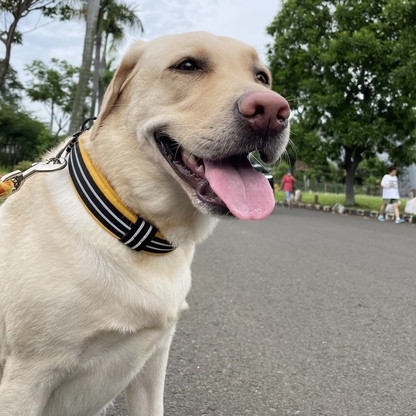labrado: (3, 28, 299, 416)
